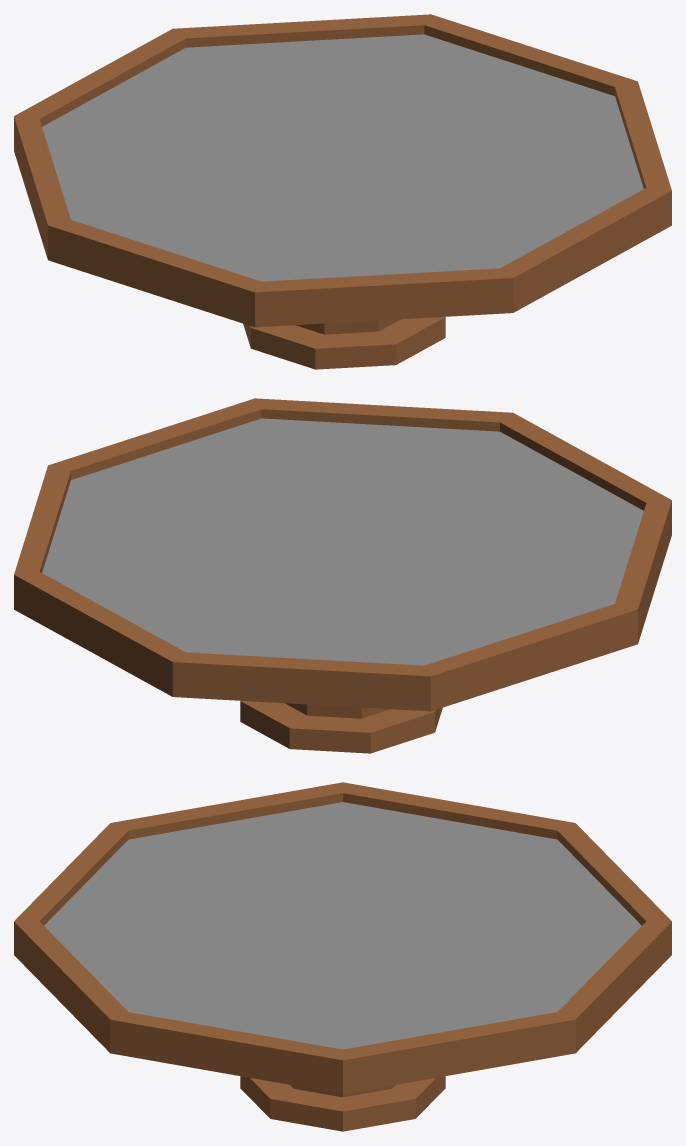
Rendered from Otable.fbx.
3 renders of one model, top to bottom at view 1: azimuth 30°, elevation 25°; view 2: azimuth 150°, elevation 25°; view 3: azimuth 270°, elevation 25°, orthographic. The views are drawn at different scales.
Parts seen in each view (by area): view 1: Circle.002; view 2: Circle.002; view 3: Circle.002.
Part boxes in pixels (left/top/right/bottom): Circle.002: left=14, top=14, right=671, bottom=369; Circle.002: left=14, top=398, right=671, bottom=753; Circle.002: left=14, top=782, right=671, bottom=1131.
Size of the model in its own units: 193 by 54.08 by 193.
